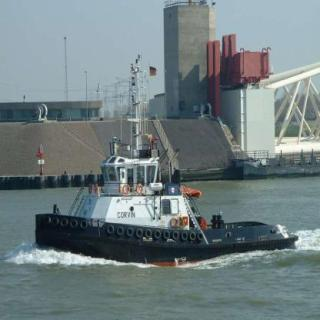Tug Boat: (6, 21, 311, 267)
